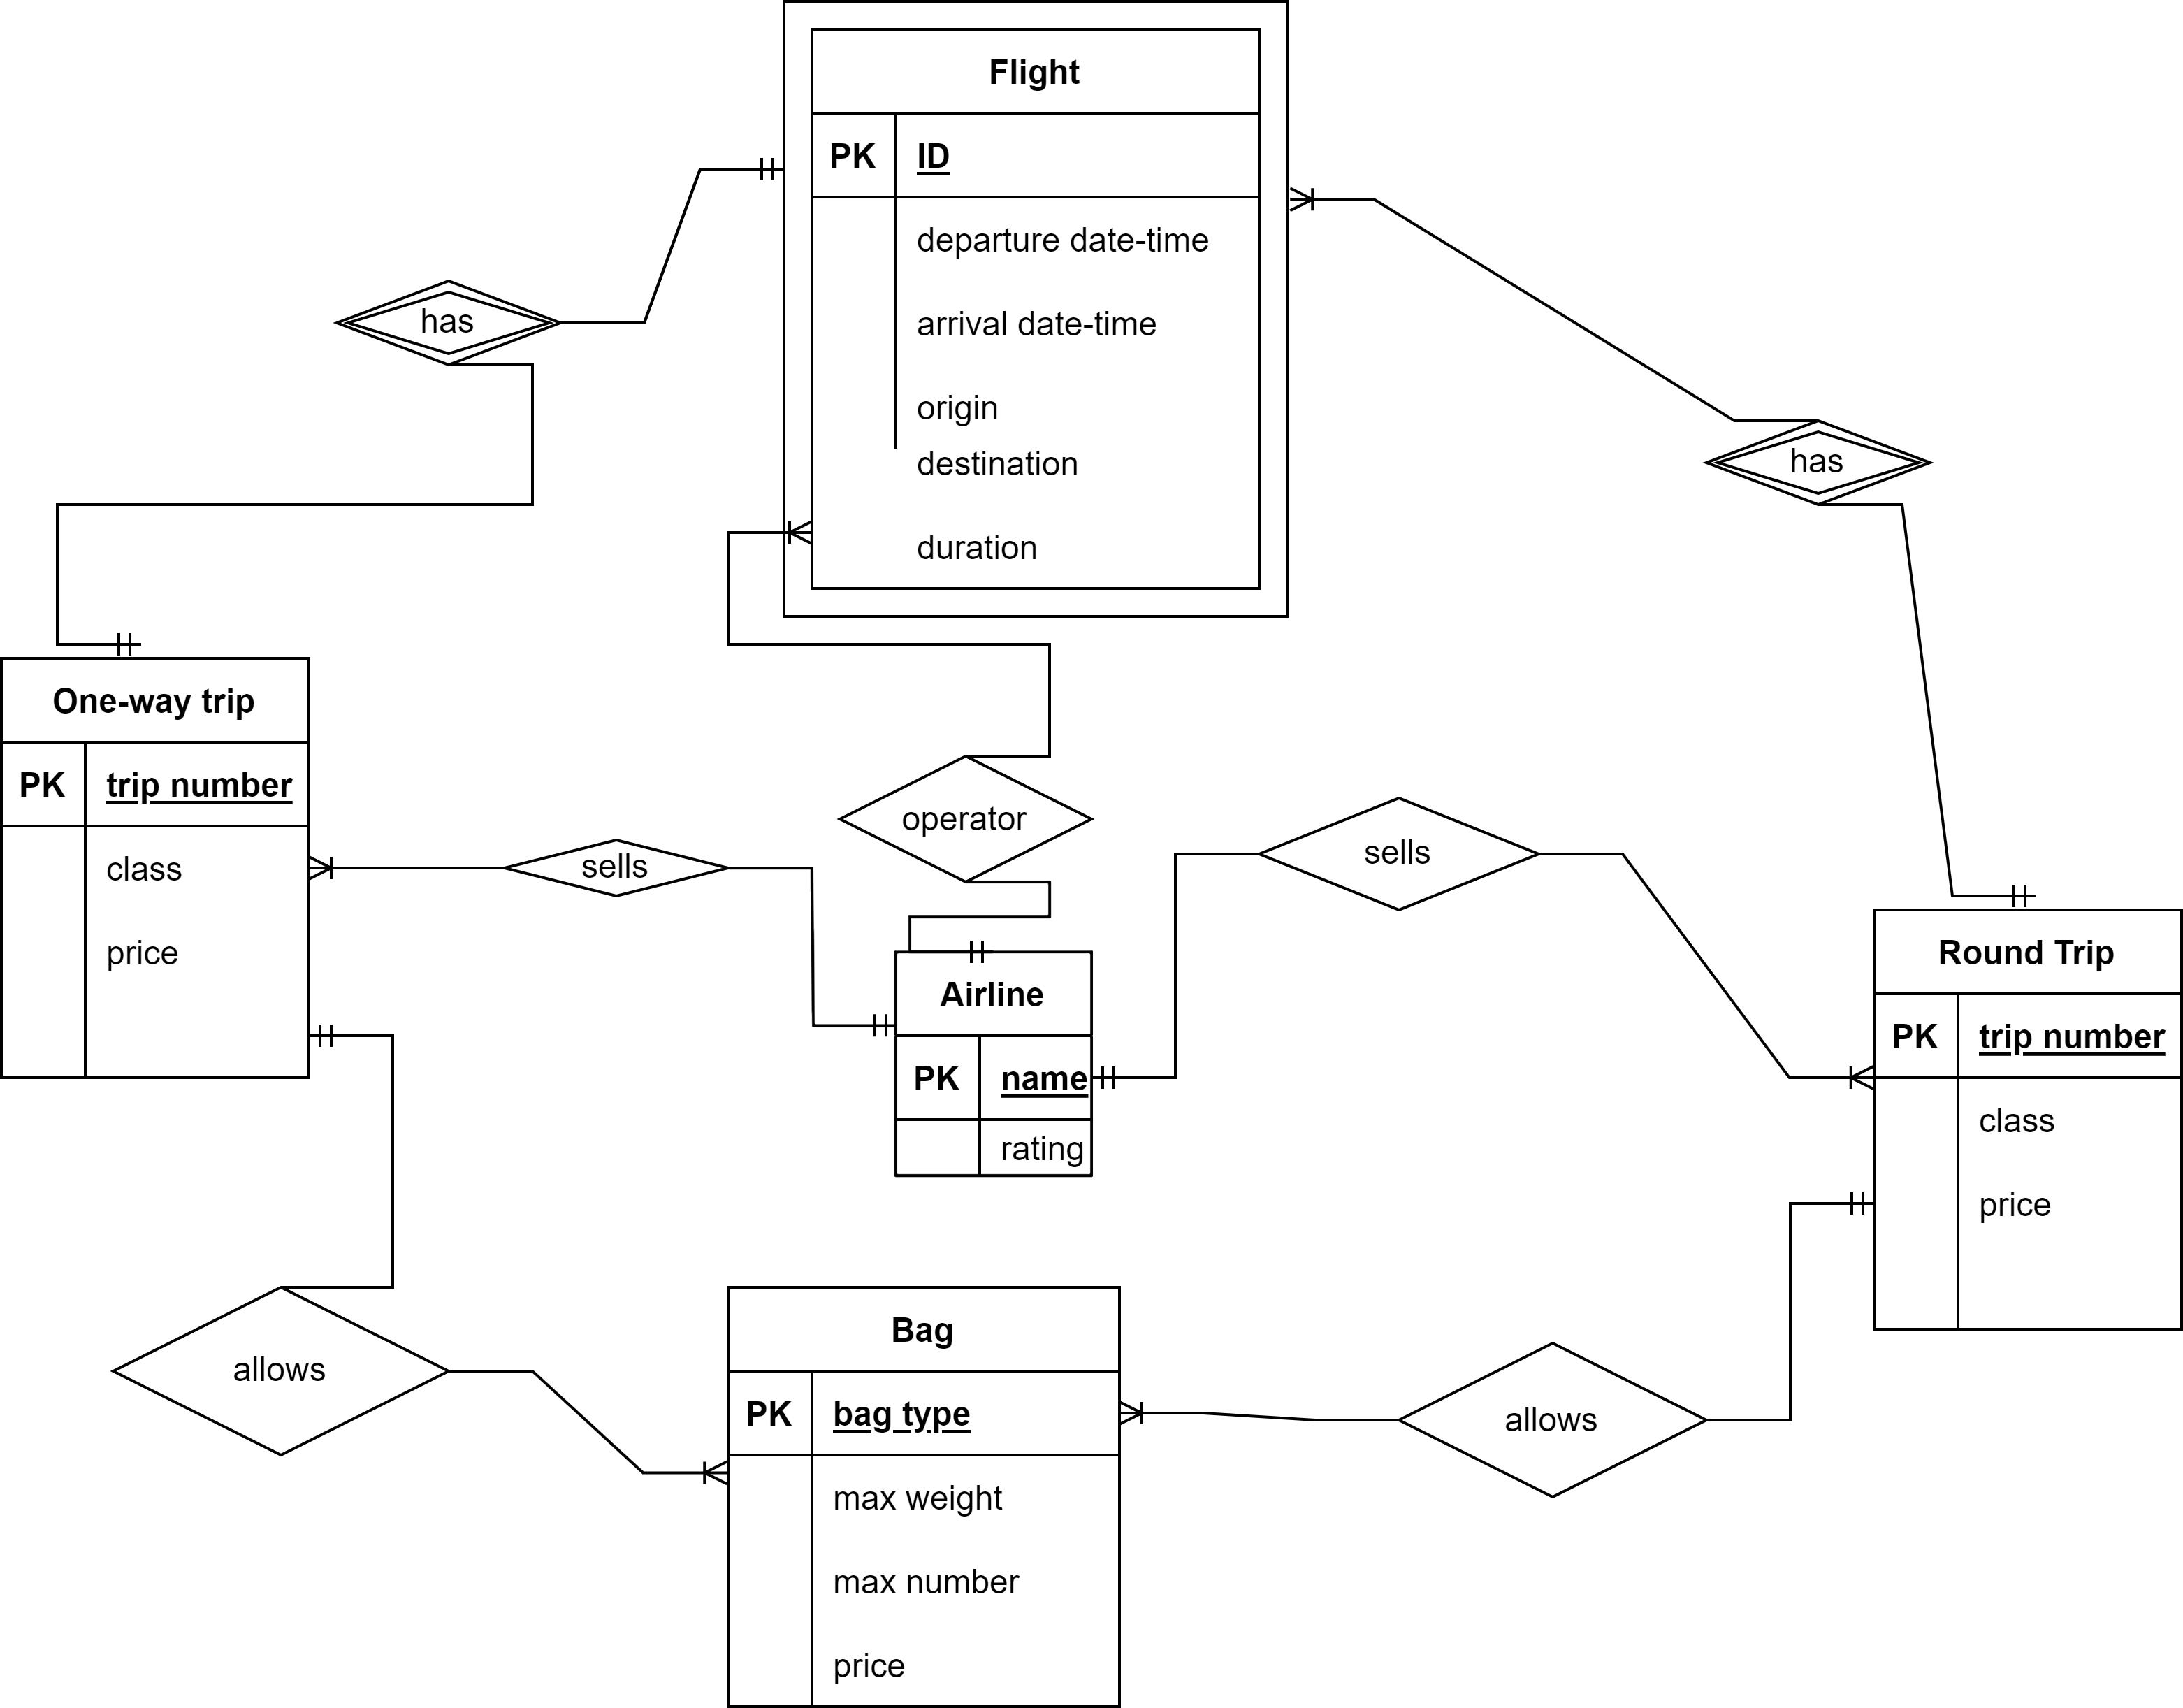entity: (725, 1285, 1130, 1708), (1868, 904, 2183, 1338), (0, 659, 312, 1086), (895, 946, 1095, 1182)
relationship: (108, 1292, 447, 1458), (1405, 1345, 1701, 1495), (1262, 792, 1547, 920), (835, 760, 1090, 882), (509, 842, 725, 902)
weakentity: (778, 0, 1302, 624)
weakrelationship: (1710, 422, 1931, 507), (337, 280, 558, 363)
